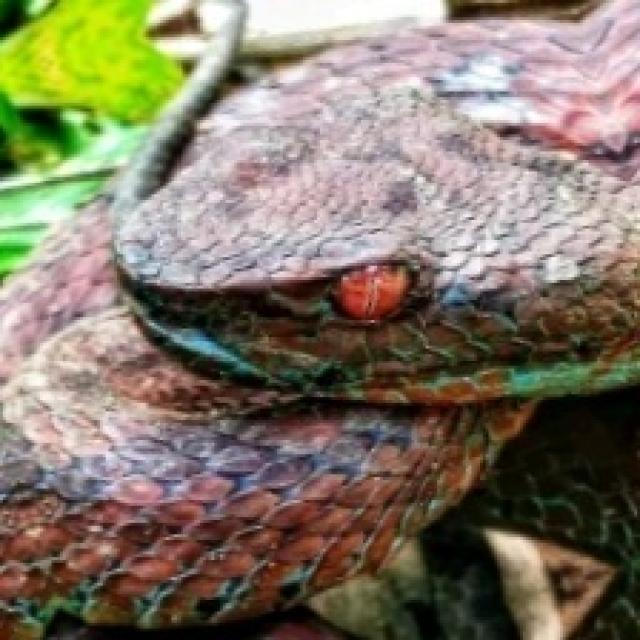philippine pitviper: (0, 0, 637, 637), (114, 0, 637, 400)
